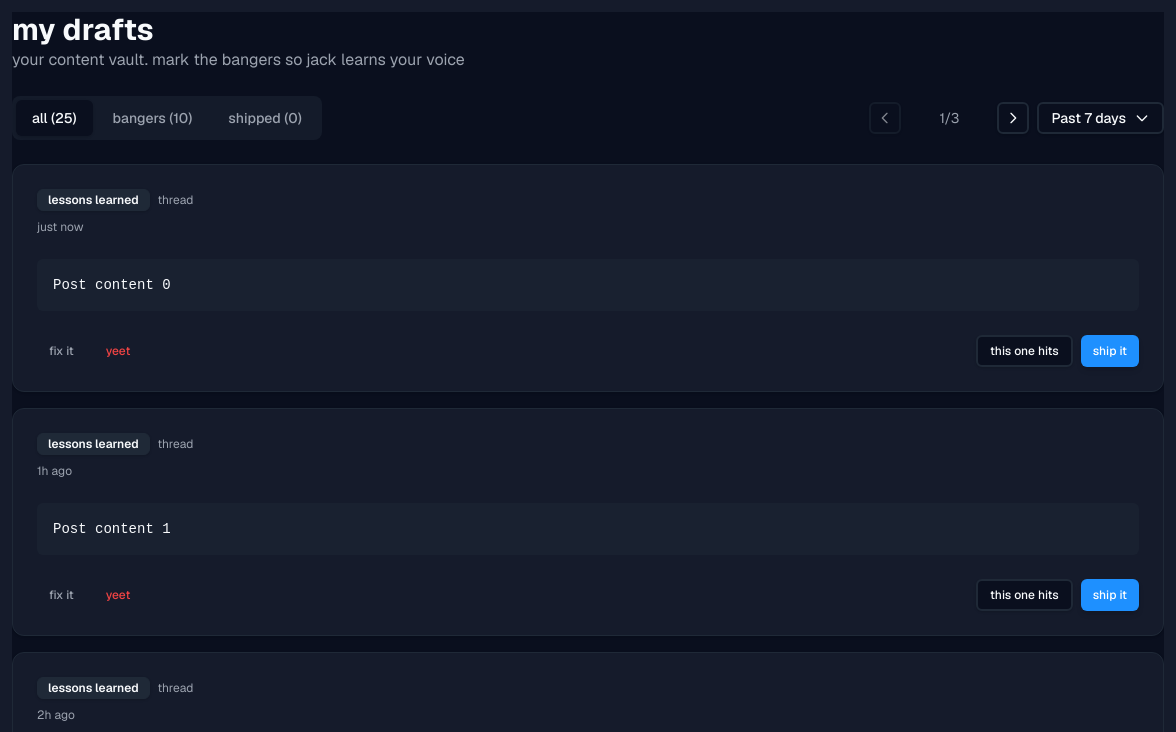
Test: Posts List - Pagination Integration › Pagination Reset on Filter Change › should reset to page 1 when changing filter tabs
Note: Navigate to page 2 in "all" filter
Click the button named "Next page" at (1013, 118), box [997,102,1029,134]
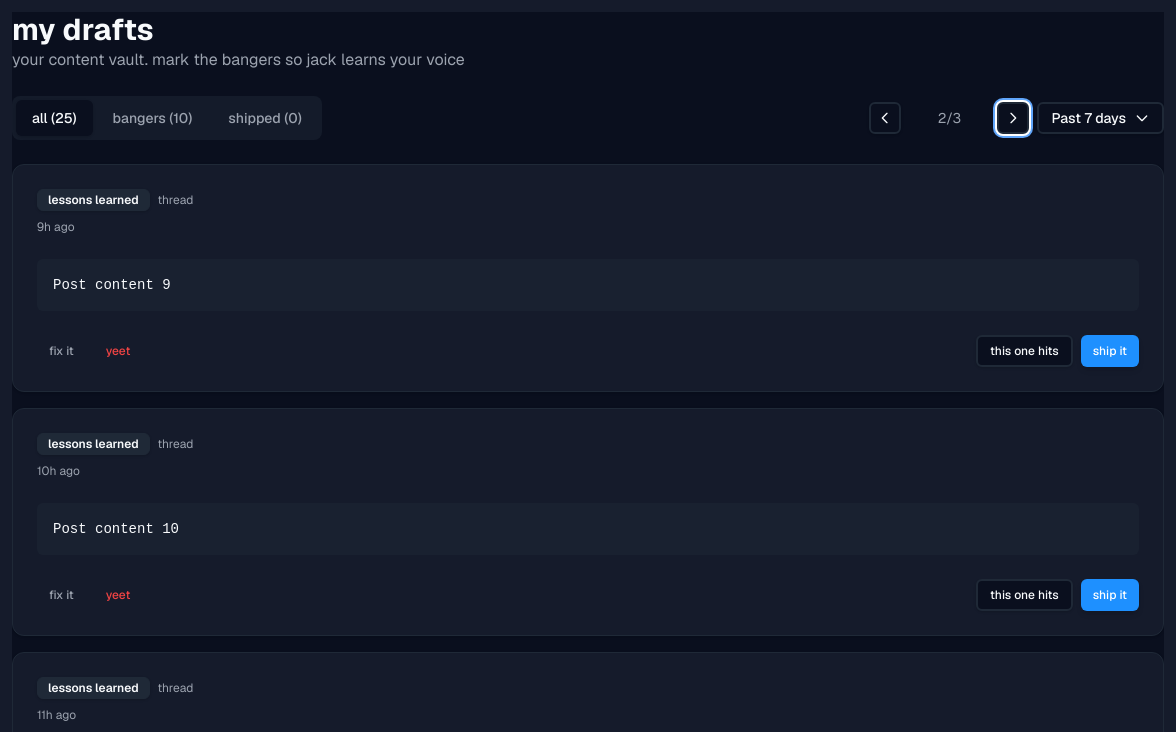
Expected: the text "2/3" is shown, [938,109,961,127]
Note: Switch to "bangers" filter
Click the button "bangers (10)" at (152, 118), box [97,100,208,136]
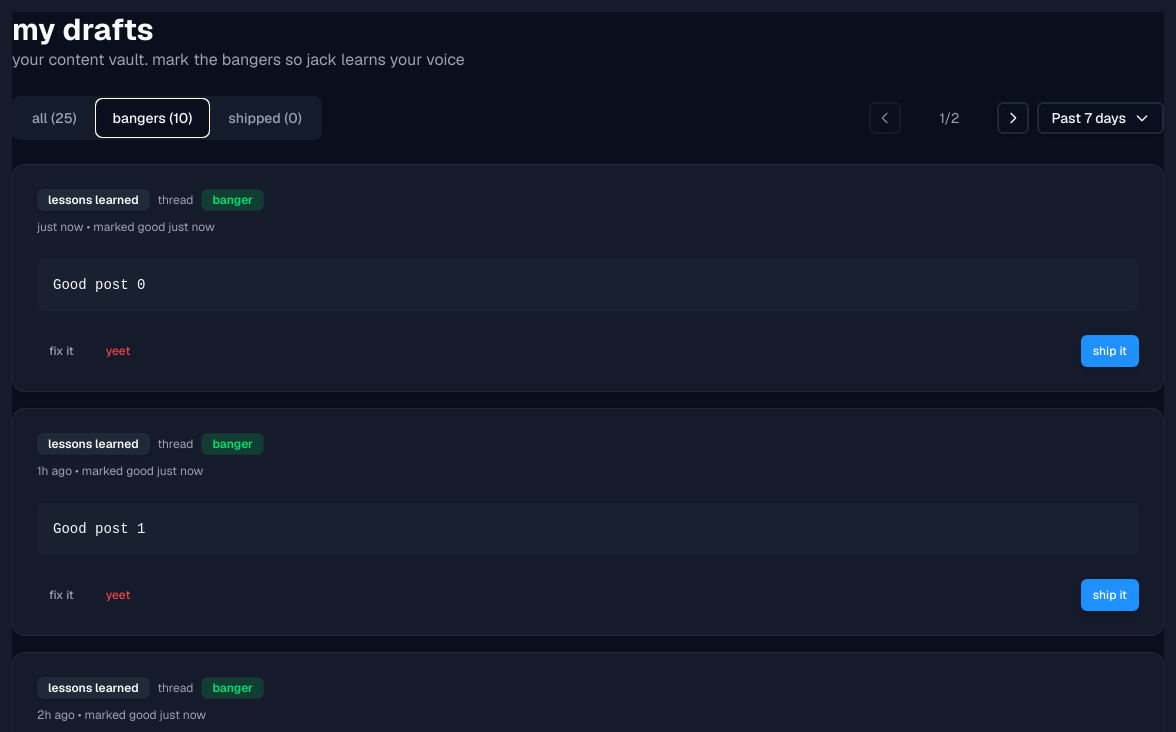
Expected: the text "1/2" is shown, [939,109,959,127]
